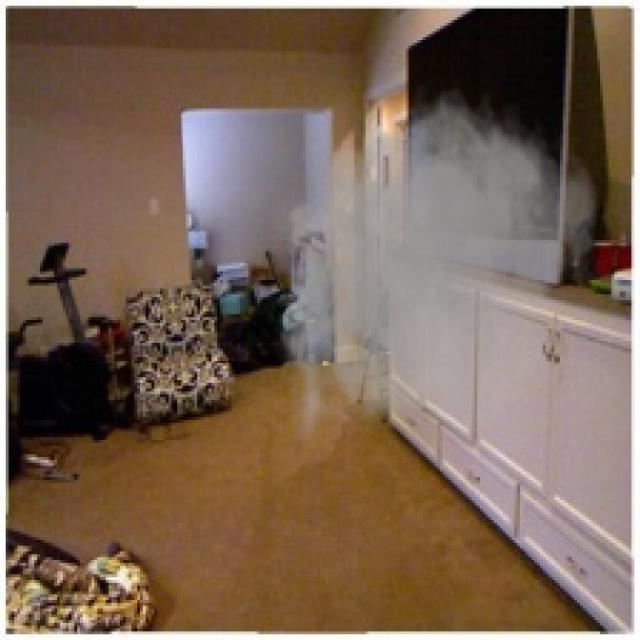Smoke: (262, 77, 608, 457)
